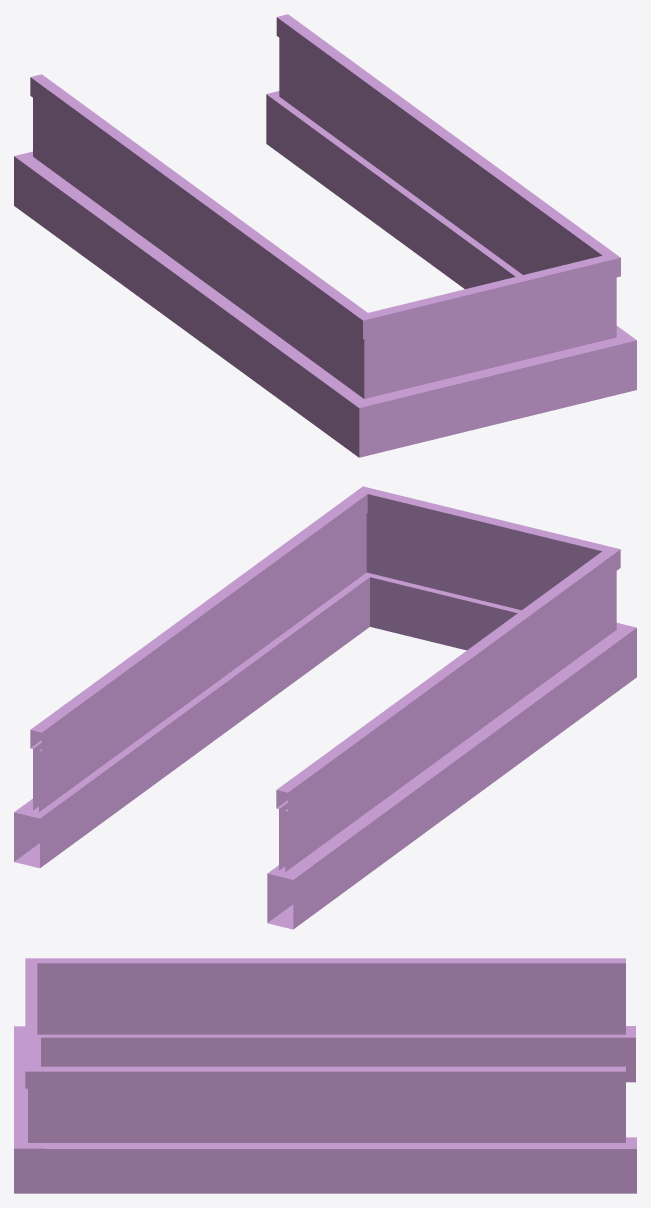
The model's file is Museum_mesa_Fence_Stair.fbx.
3 renders of one model, top to bottom at view 1: azimuth 30°, elevation 25°; view 2: azimuth 150°, elevation 25°; view 3: azimuth 270°, elevation 25°, orthographic. The views are drawn at different scales.
Visible parts, largest first — view 1: Archi_Annexes_Etage.005; view 2: Archi_Annexes_Etage.005; view 3: Archi_Annexes_Etage.005.
Boxes of the visible parts, x1,y1,x2,y2 form: Archi_Annexes_Etage.005: (14,14,636,457); Archi_Annexes_Etage.005: (14,486,636,929); Archi_Annexes_Etage.005: (14,958,636,1193).
Bounding box in the file's own units: 390 × 174 × 836.
